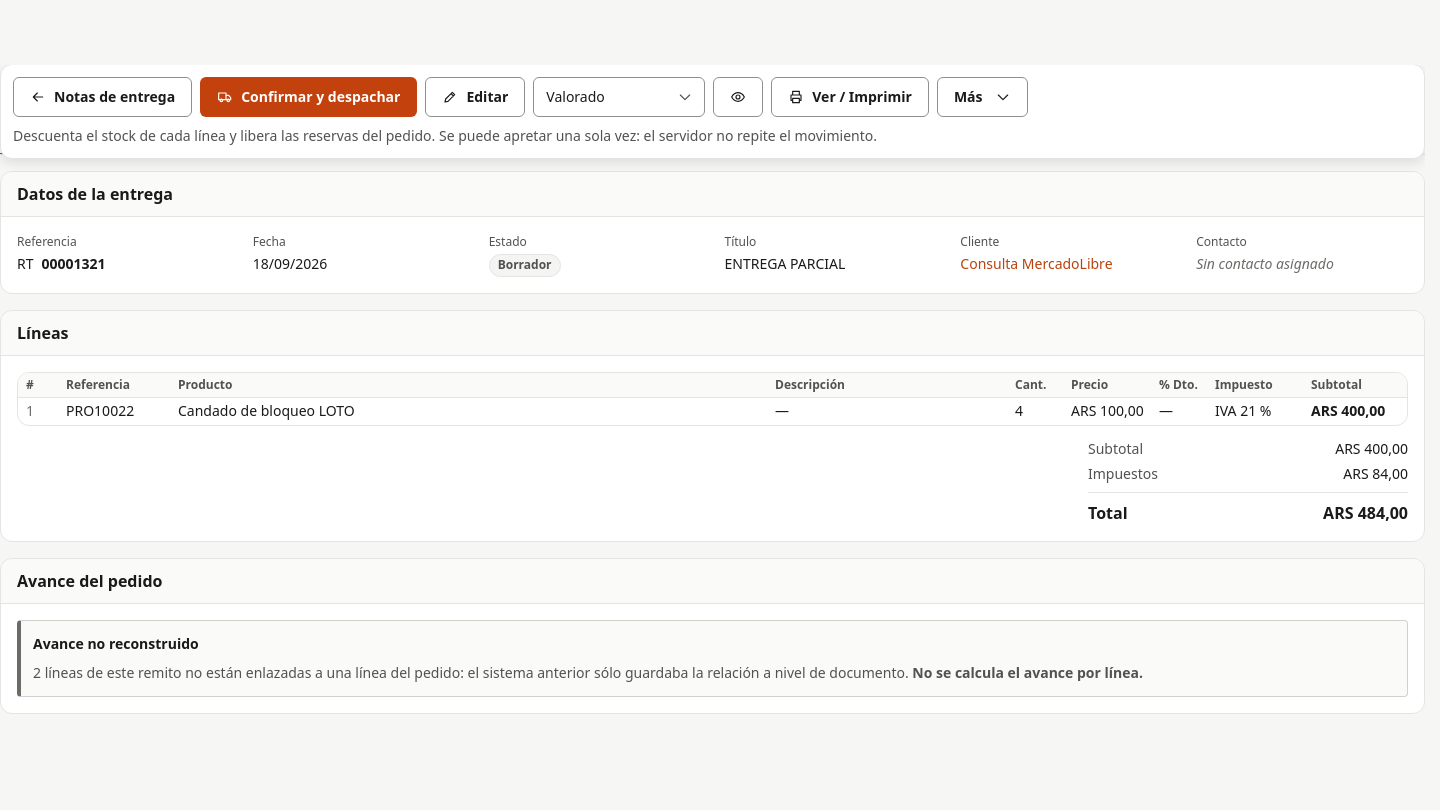
La hoja del remito › con pantalla angosta no ocupa lugar, y el botón la muestra
This screenshot has width=1440, height=810.
Click the button named "Vista previa": (738, 97) [713, 77, 763, 117]
(page scrolled)
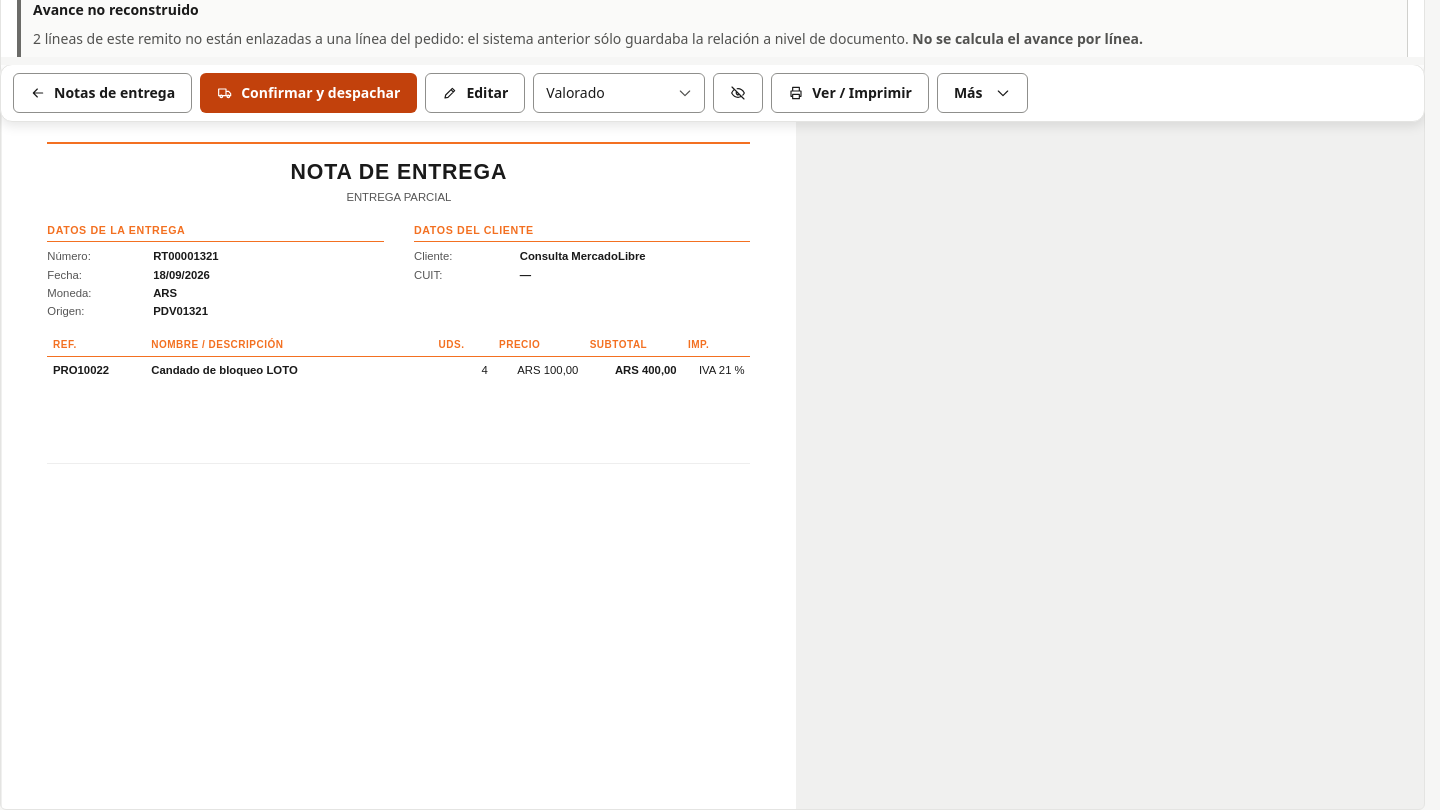
Now the element named "Documento" is shown
